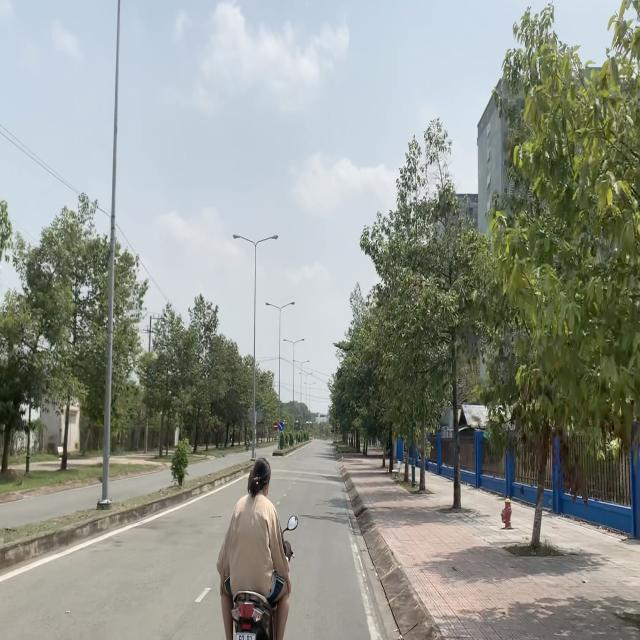Cam nguoc chieu: (273, 422, 278, 430)
Hieu lenh: (278, 422, 283, 431)
